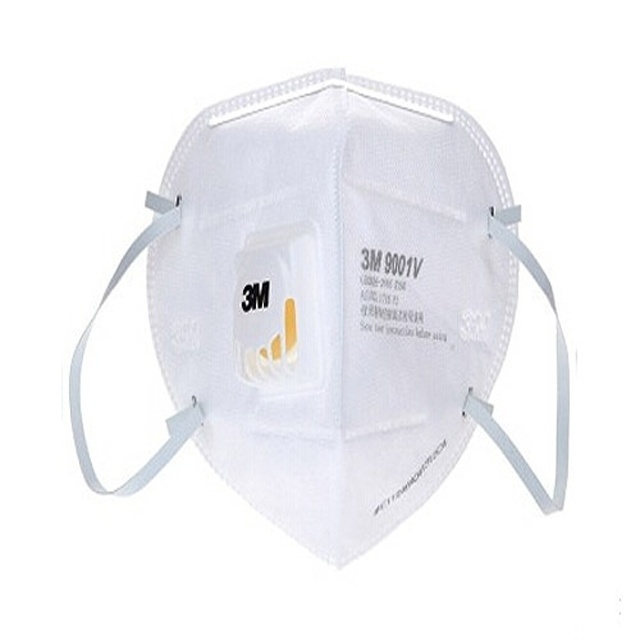mask: (63, 67, 576, 549)
